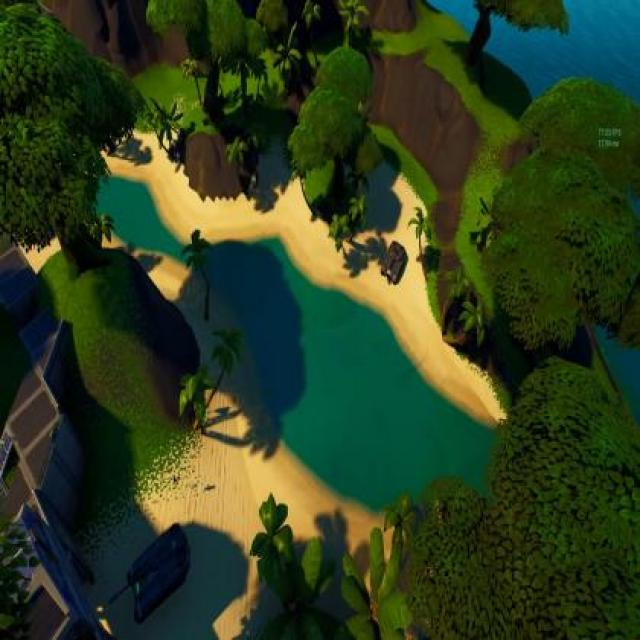tank: (107, 516, 193, 625), (377, 236, 411, 290)
